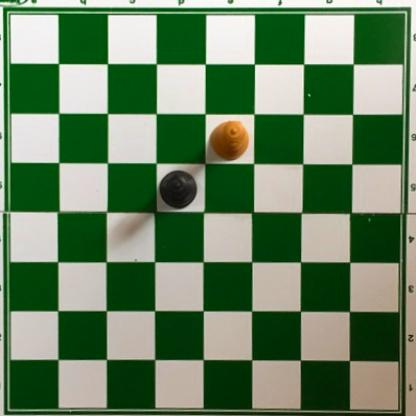black-queen: (158, 170, 199, 209)
white-queen: (208, 118, 251, 161)
